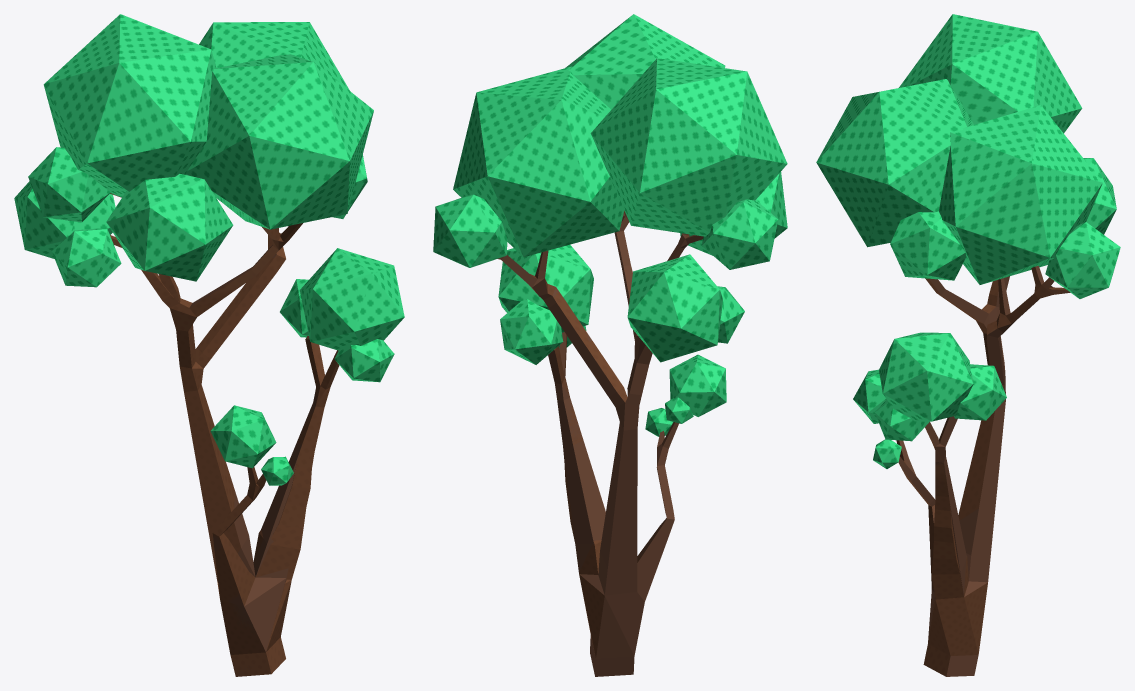
The model's file is tree1.fbx.
3 renders of one model, left to right at view 1: azimuth 30°, elevation 25°; view 2: azimuth 150°, elevation 25°; view 3: azimuth 270°, elevation 25°, orthographic. The views are drawn at different scales.
Visible parts, largest first — view 1: Icosphere.015, Cube; view 2: Icosphere.015, Cube; view 3: Icosphere.015, Cube.
Part boxes in pixels (<box>): Icosphere.015: <box>14,14,404,676</box>; Cube: <box>189,226,318,676</box>; Icosphere.015: <box>433,14,787,657</box>; Cube: <box>497,213,703,676</box>; Icosphere.015: <box>816,14,1120,676</box>; Cube: <box>898,266,1070,676</box>.
Size of the model in its own units: 455 by 898 by 413.
